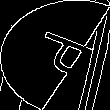P_SE: (14, 27, 96, 83)
